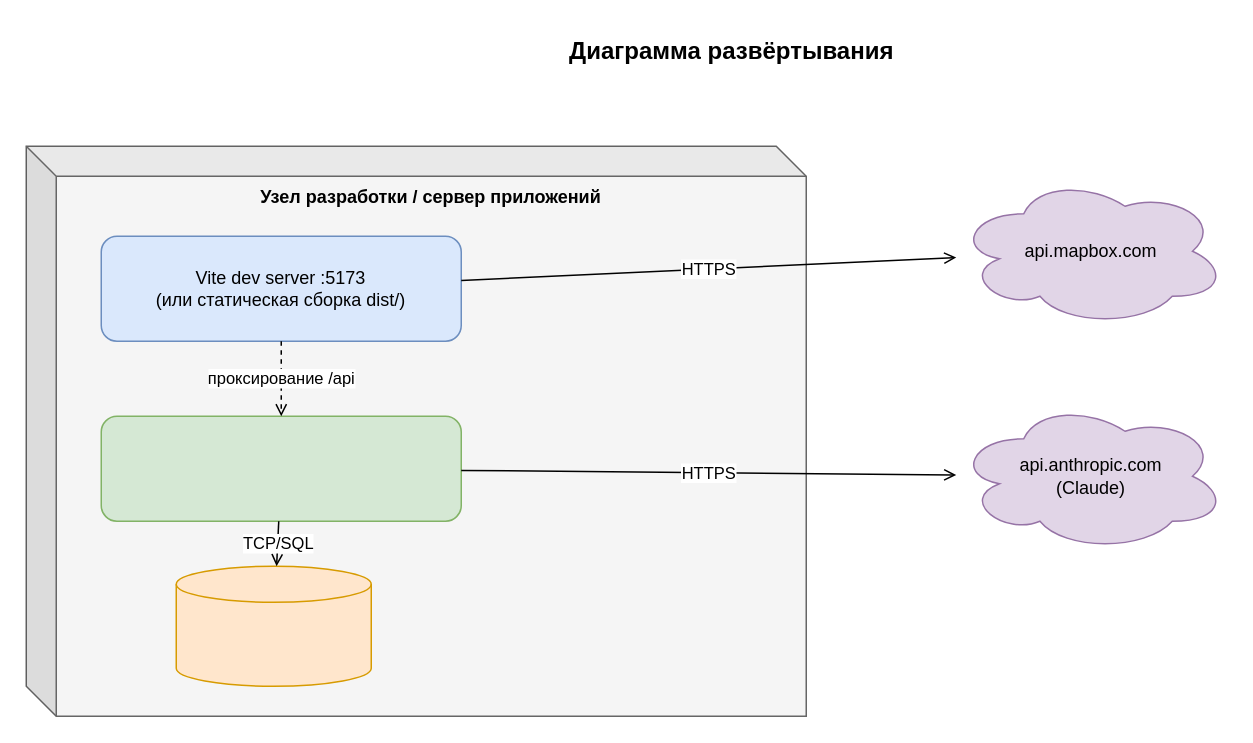
Some shapes in this 1253 by 743 pixel diagram are drawn without their labels. The centre of each missing label's shape, as x and y in pixels:
Node.js :3000 NestJS API: (280,468)
PostgreSQL :5432: (273,625)
